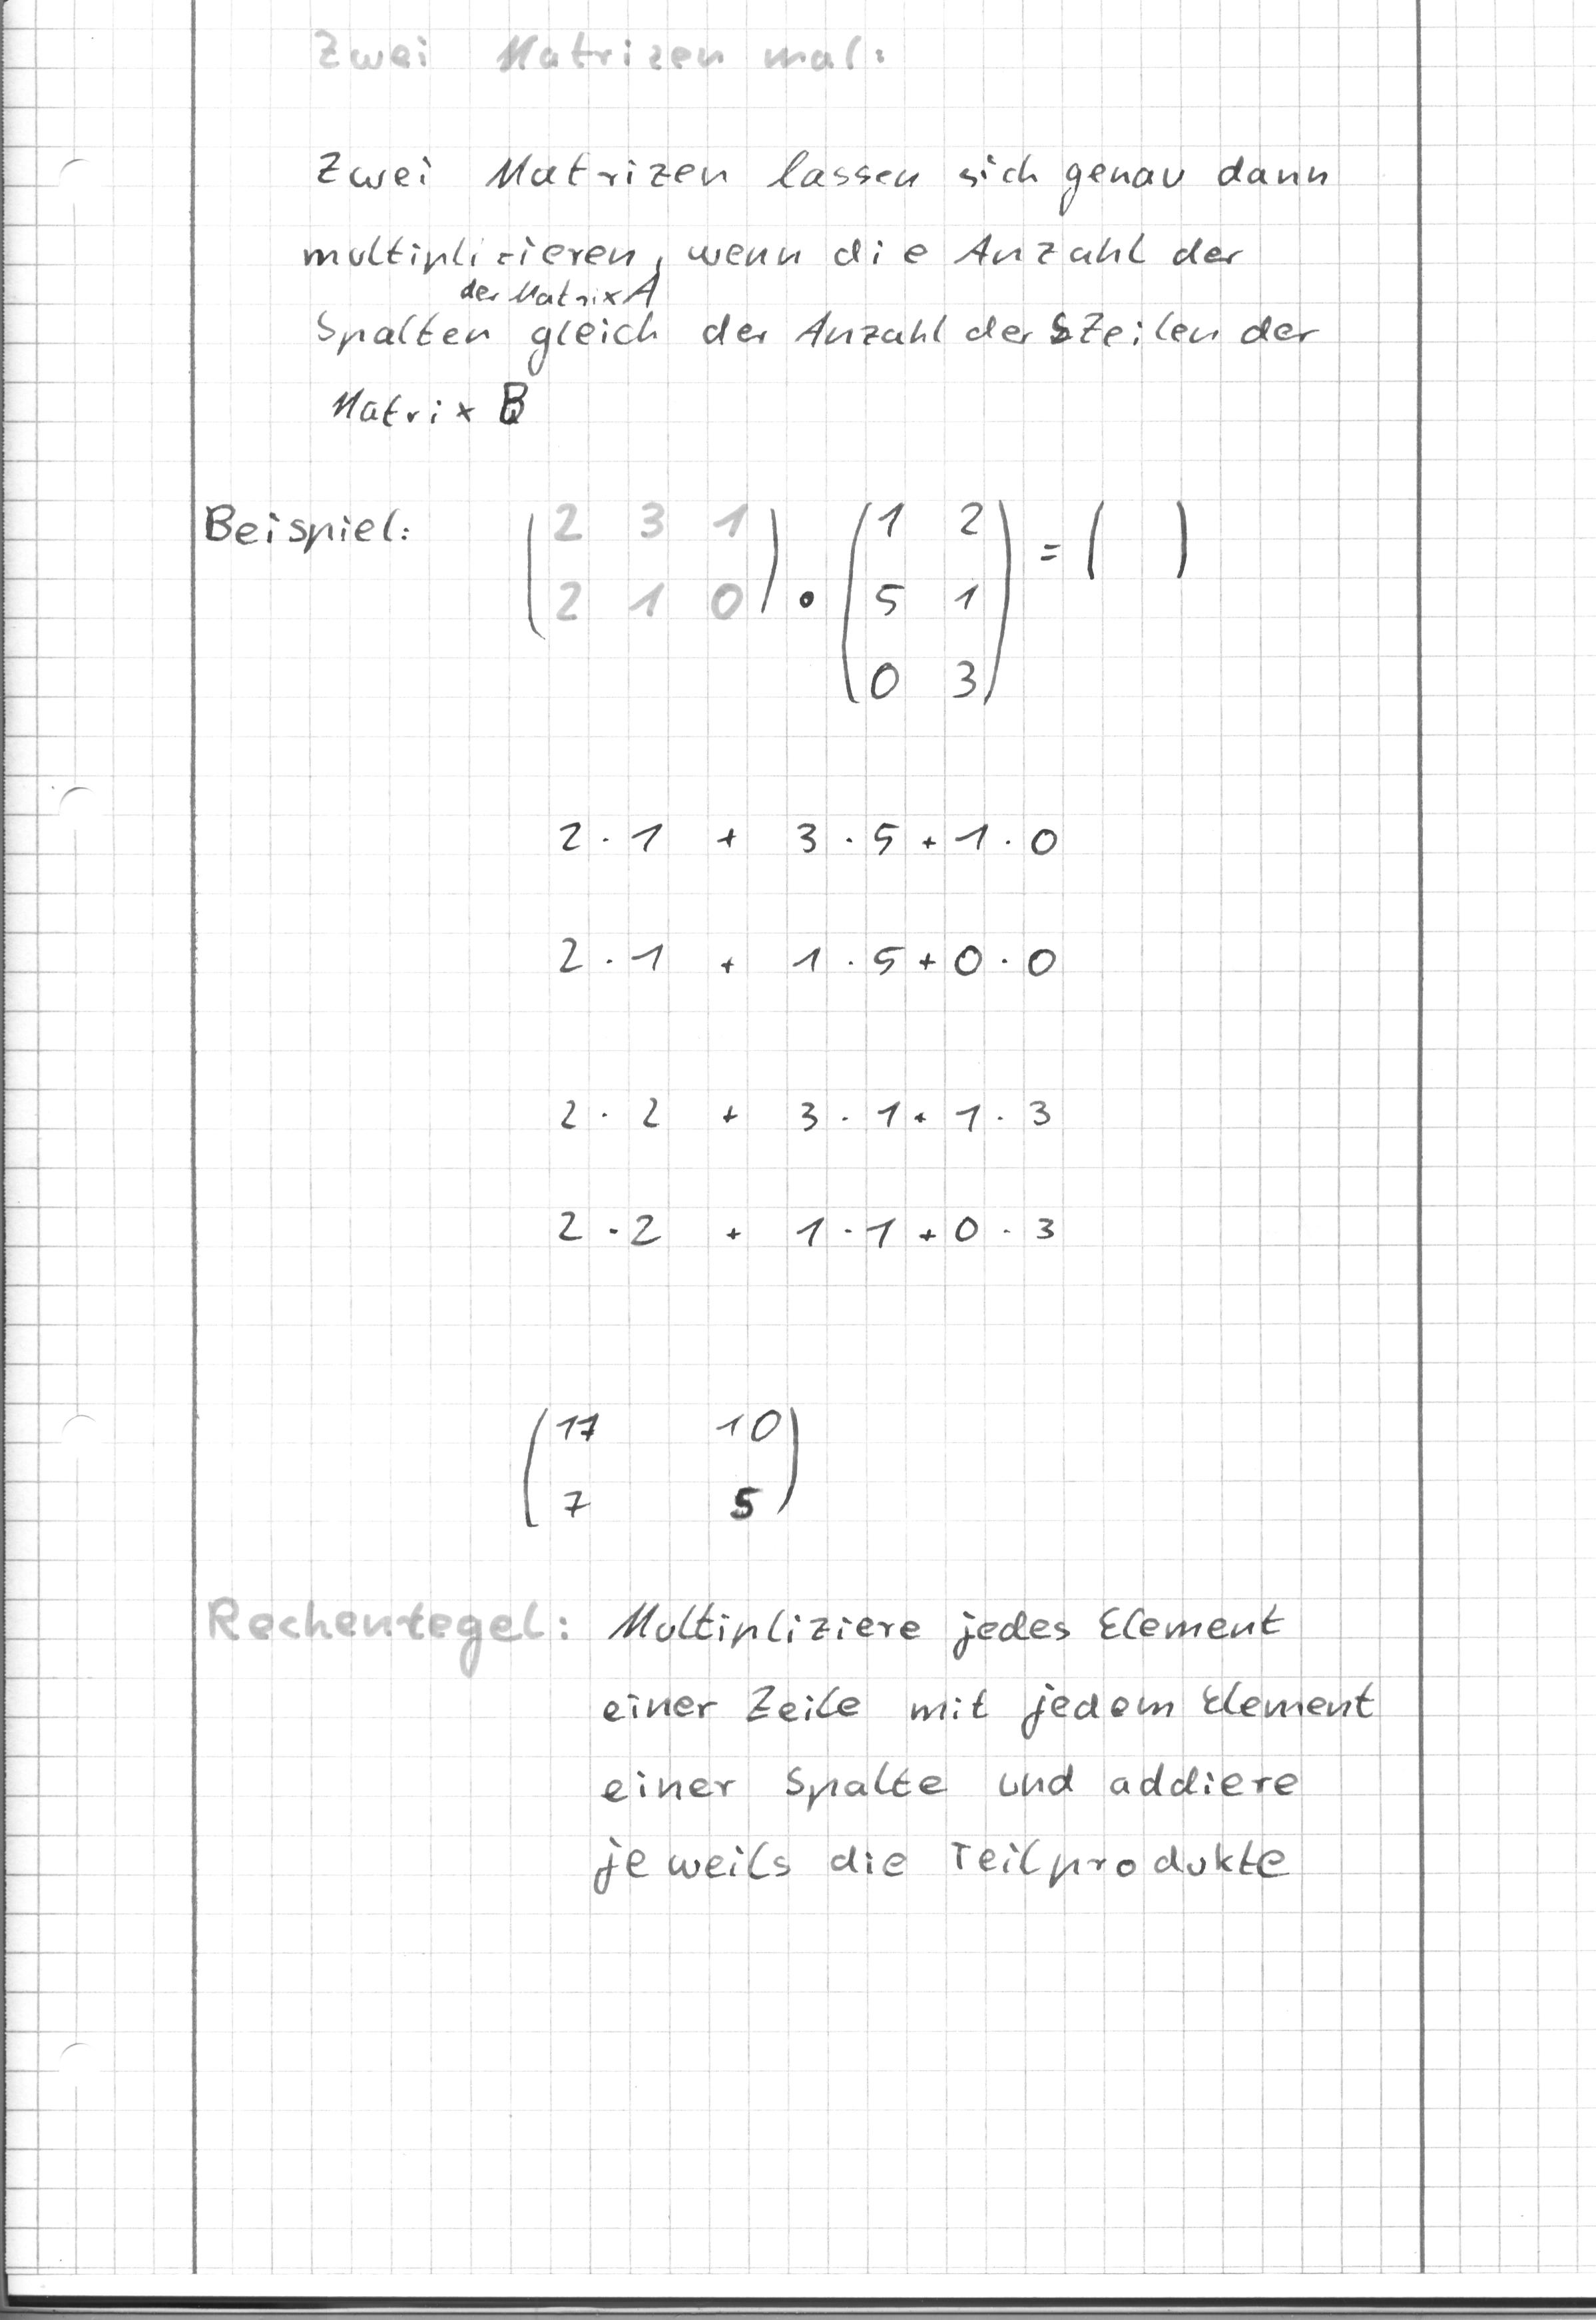word: (295, 139, 1342, 443), (587, 1590, 1392, 1912), (535, 901, 1074, 1020), (524, 1175, 1083, 1279), (828, 485, 1071, 723), (533, 1059, 1073, 1161), (542, 789, 1085, 889), (510, 1391, 827, 1551), (184, 469, 435, 587)
